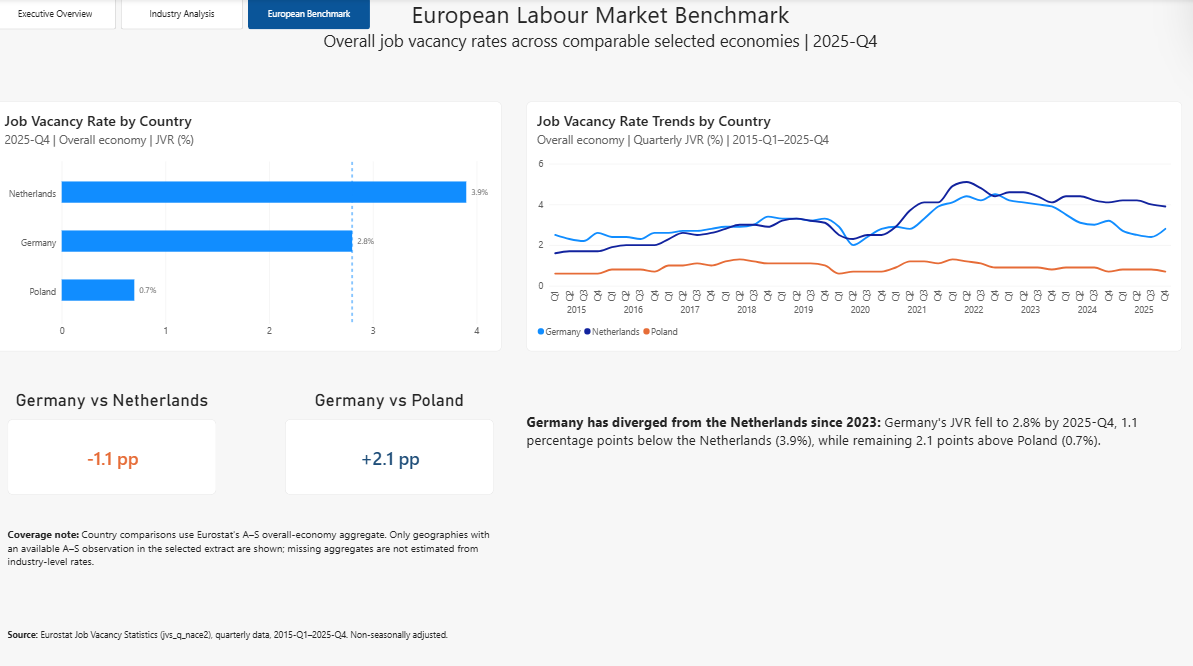

What the dashboard file says about the page in this screenshot:
{"tool":"powerbi","page":{"name":"European Benchmark","canvas":[1920,1080],"ordinal":2},"visuals":[{"type":"textbox","box":[10,0,1910,107.5],"z":0},{"type":"clusteredBarChart","title":"Job Vacancy Rate by Country","fields":{"Category":["DimCountry.Country"],"Y":["_Measures.Job Vacancy Rate"]},"box":[0,165,807.5,397.5],"z":1},{"type":"lineChart","title":"Job Vacancy Rate Trends by Country","fields":{"Category":["DimDate.Year","DimDate.Quarter"],"Series":["DimCountry.Country"],"Y":["_Measures.Job Vacancy Rate"]},"box":[847.5,165,1042.5,397.5],"z":2},{"type":"cardVisual","title":"Germany vs Netherlands","fields":{"Data":["_Measures.Germany vs Netherlands JVR Gap Display"]},"box":[22.5,622.5,332.5,167.5],"z":3},{"type":"cardVisual","title":"Germany vs Poland","fields":{"Data":["_Measures.Germany vs Poland JVR Gap Display"]},"box":[462.5,622.5,332,167.5],"z":4},{"type":"textbox","box":[847.5,657.5,1042.5,132.5],"z":5},{"type":"textbox","box":[22.5,842.5,785,90],"z":6},{"type":"textbox","box":[22.5,1002.5,852.5,45],"z":7},{"type":"pageNavigator","box":[0,0,600,50],"z":8}]}

Visuals, with their boxes in screenshot pixels (x1, y1, x2, y2), scaled from the page's 1920x1080 canvas onto the 1193x666 screenshot:
textbox: [6,0,1192,66]
"Job Vacancy Rate by Country" clusteredBarChart: [0,102,502,347]
"Job Vacancy Rate Trends by Country" lineChart: [527,102,1174,347]
"Germany vs Netherlands" cardVisual: [14,384,221,487]
"Germany vs Poland" cardVisual: [287,384,494,487]
textbox: [527,405,1174,487]
textbox: [14,520,502,575]
textbox: [14,618,544,646]
pageNavigator: [0,0,373,31]
